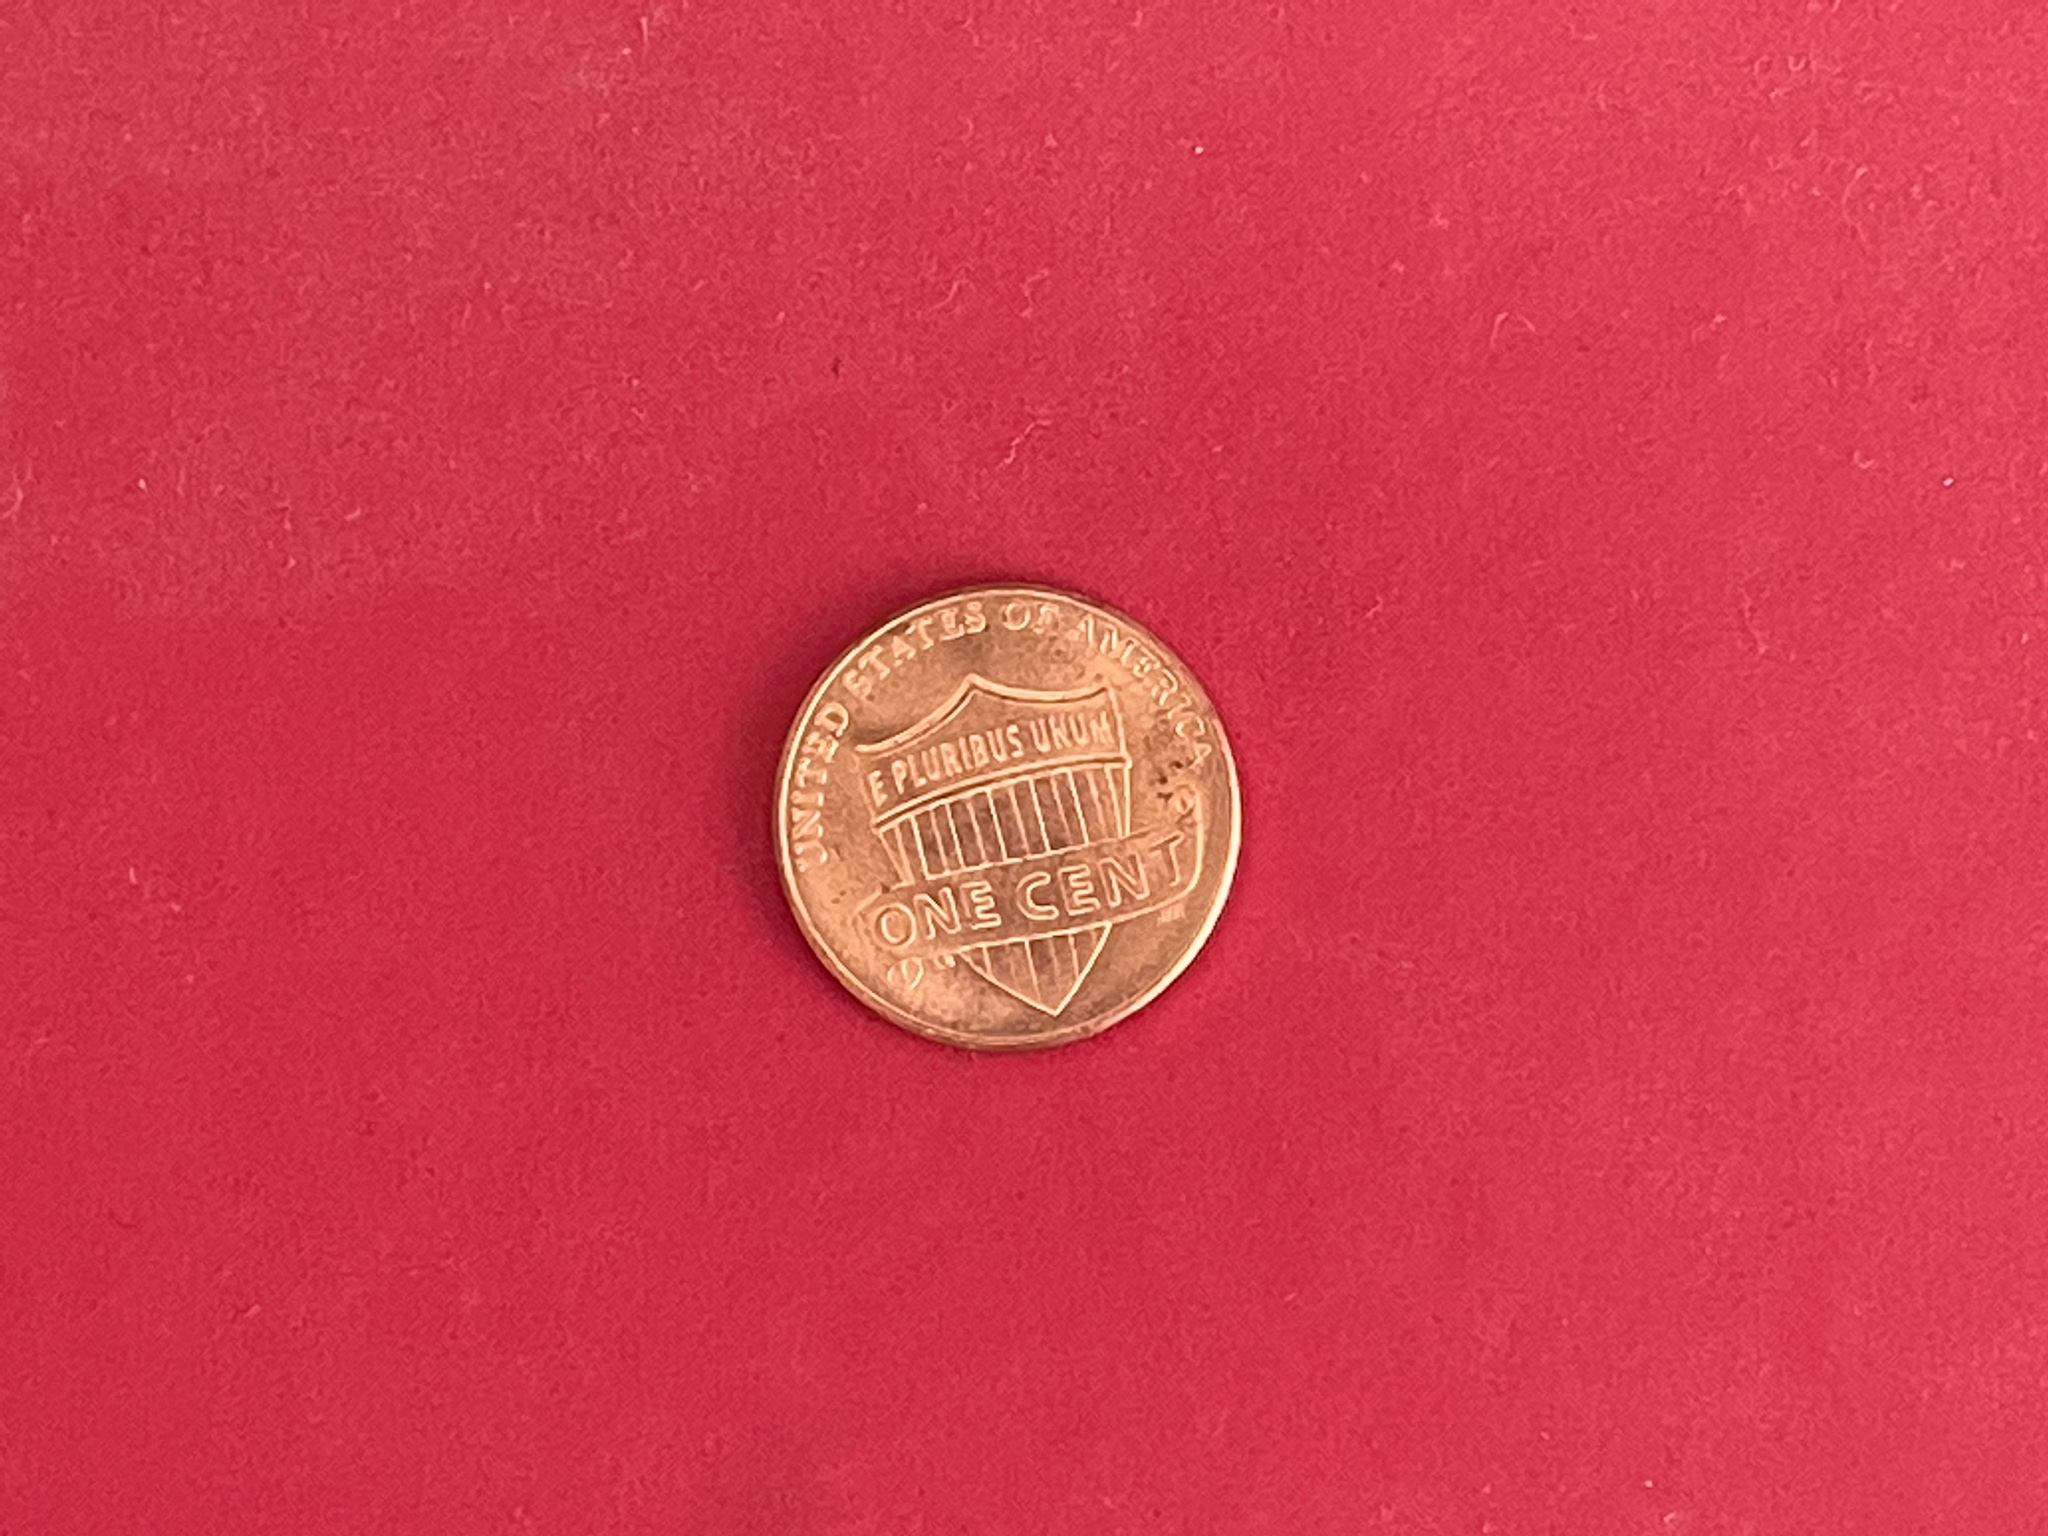penny: (768, 582, 1247, 1055)
